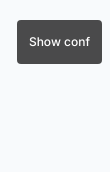
Test case: DetectionOverlay › toggles confidence display and clears canvas after 1s without new results
This screenshot has width=110, height=172.
What coordinates should you click on to do the following:
click the button "Show conf"
I would click on:
 (59, 42)
Its box is [17,20,102,64].
Wait 1050 ms
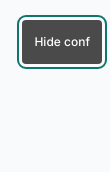
Result: the button named "Show conf" is pressed at [22,20,102,64]
